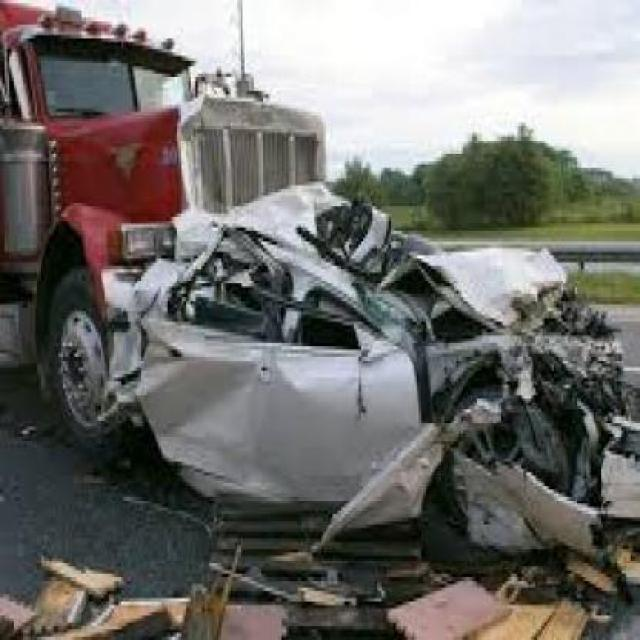accident: (63, 82, 640, 629)
